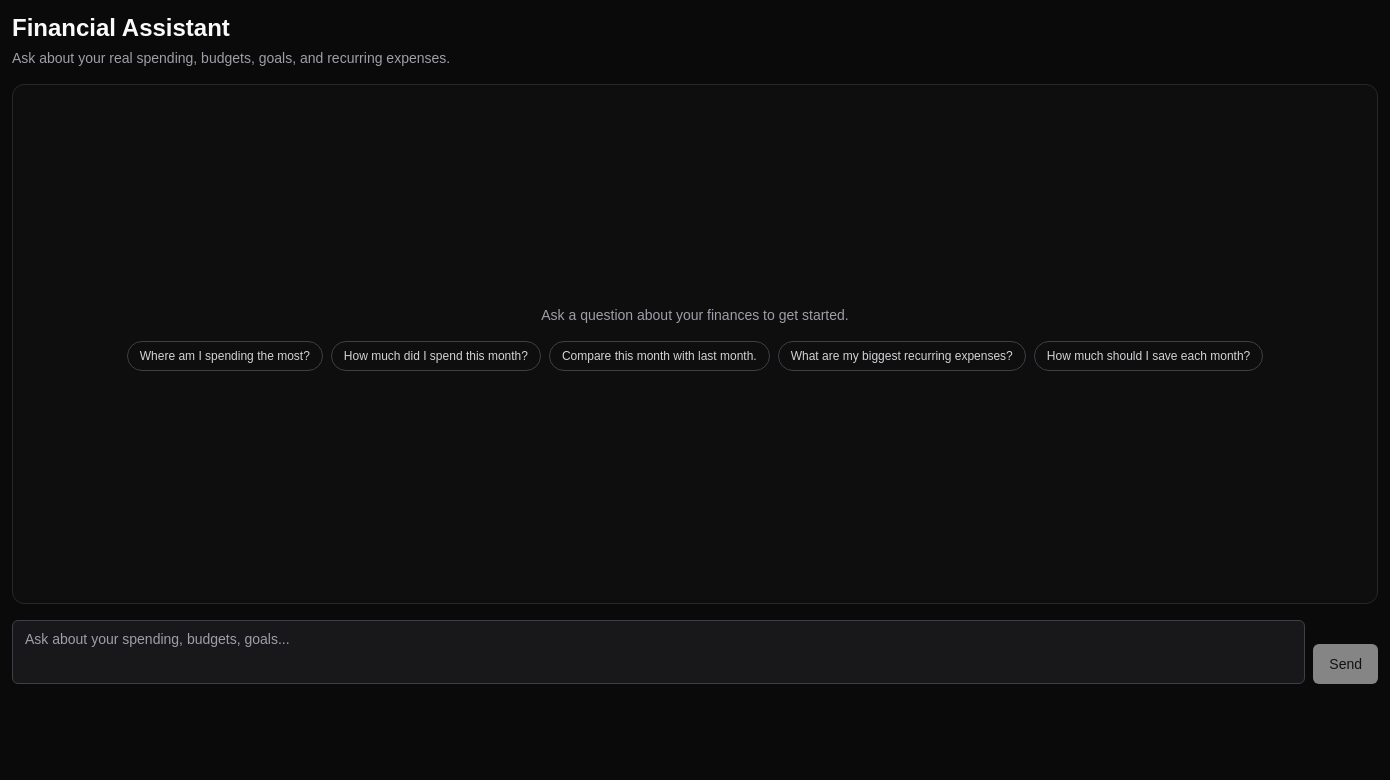
Test case: AiAssistantPage › shows an error message when the request fails
Step 1. Click the button "Where am I spending the most?" → (225, 356), box [127, 341, 323, 371]
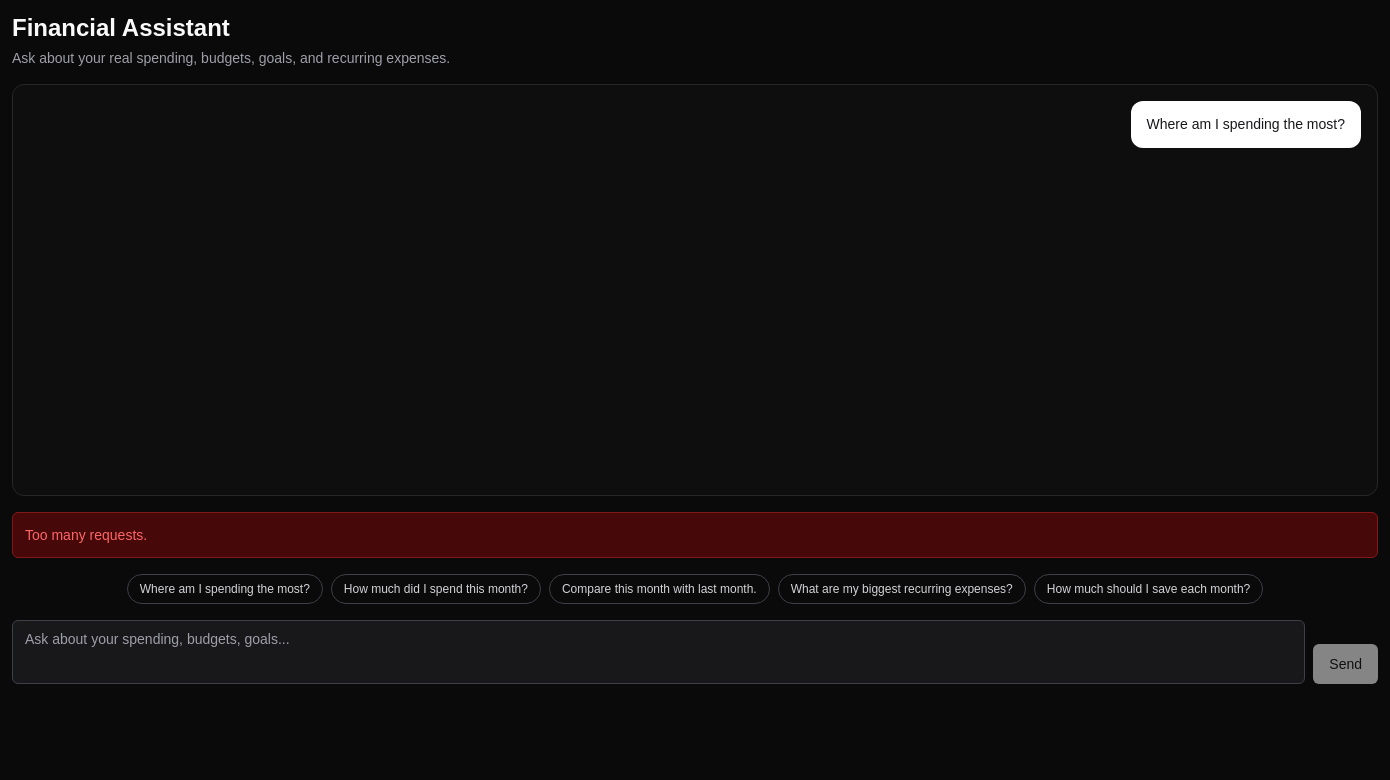
Expected: the message reads "Too many requests.", [25, 527, 147, 543]
